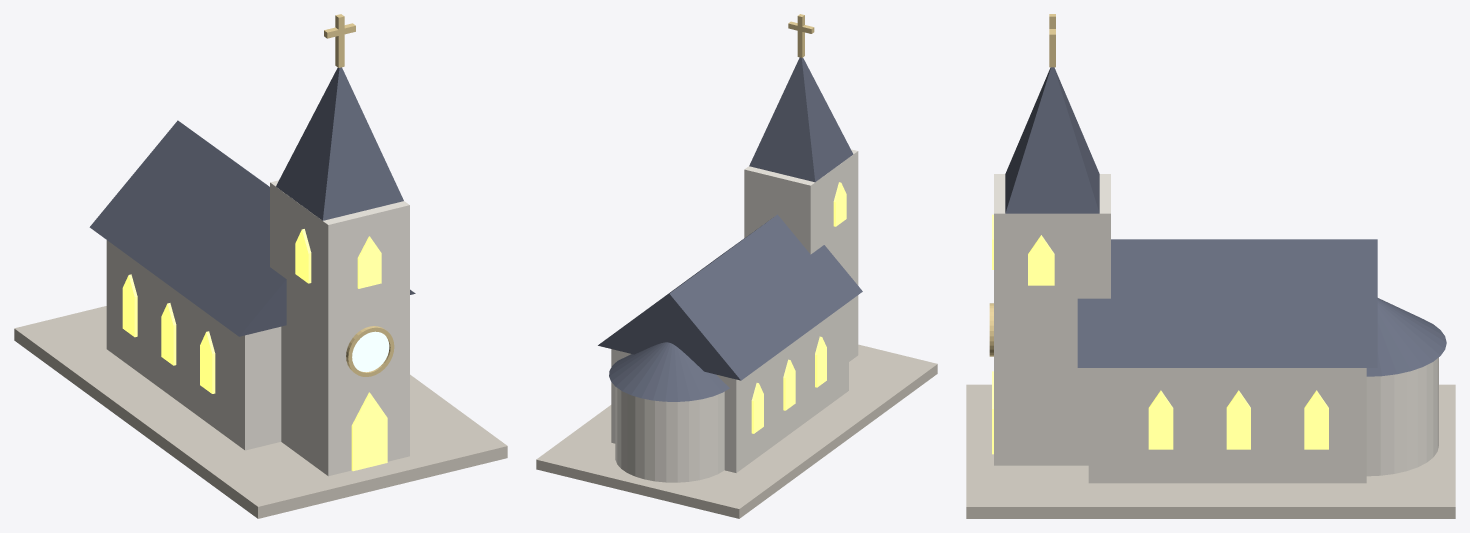
Rendered from kapelle.glb.
The picture shows the model from 3 angles, left to right: view 1: azimuth 30°, elevation 25°; view 2: azimuth 150°, elevation 25°; view 3: azimuth 270°, elevation 25°; orthographic projection. The views are drawn at different scales.
Visible parts, largest first — view 1: wall, roof, stone, glow, gold, glass; view 2: roof, wall, stone, glow, gold; view 3: wall, roof, stone, glow, gold.
Part boxes in pixels (bbox=[...]): wall: bbox=[106, 180, 409, 476]; roof: bbox=[89, 67, 415, 336]; stone: bbox=[14, 306, 507, 518]; glow: bbox=[122, 229, 387, 471]; gold: bbox=[324, 14, 394, 376]; glass: bbox=[352, 331, 389, 372]; roof: bbox=[598, 57, 862, 401]; wall: bbox=[611, 149, 858, 482]; stone: bbox=[536, 344, 937, 518]; glow: bbox=[751, 182, 846, 433]; gold: bbox=[788, 14, 814, 57]; wall: bbox=[994, 174, 1438, 483]; roof: bbox=[1005, 67, 1446, 376]; stone: bbox=[966, 384, 1455, 518]; glow: bbox=[992, 214, 1328, 454]; gold: bbox=[989, 14, 1055, 356].
Size of the model in its own units: 0.26 by 0.439 by 0.44.
